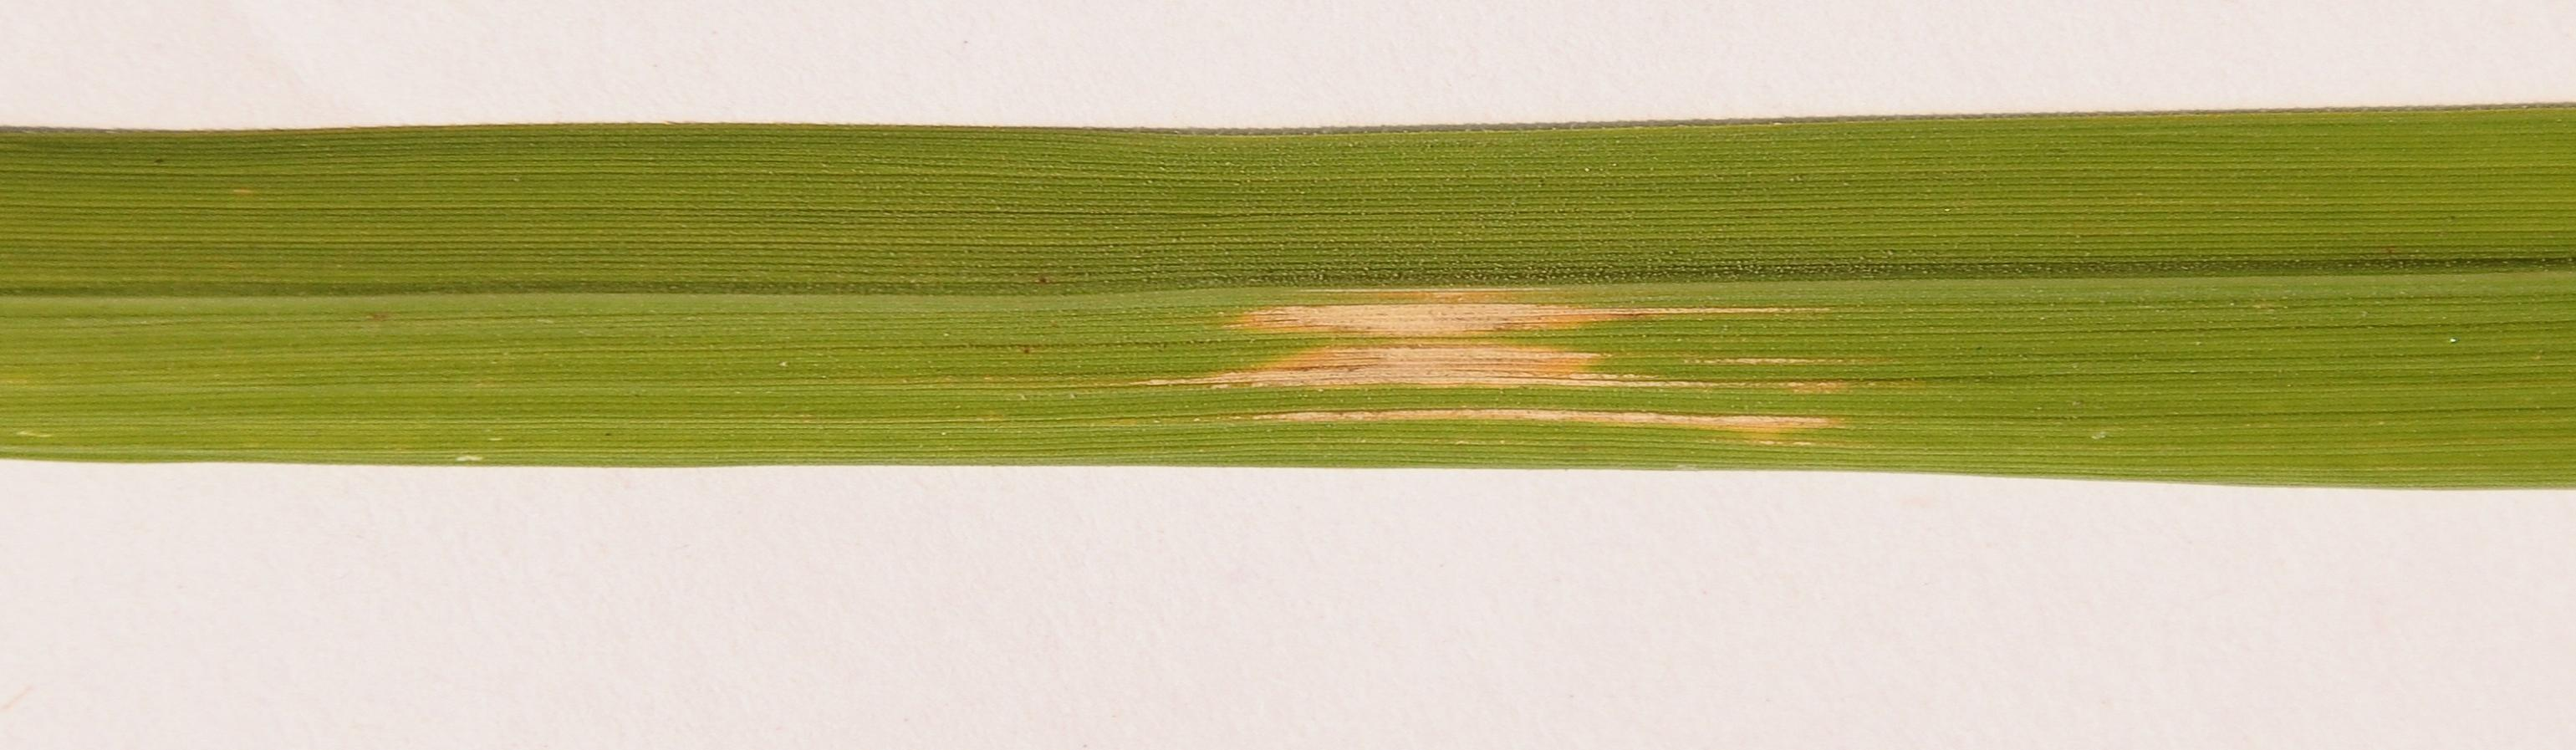bacterial_leaf_blight: (1148, 279, 1861, 450)
